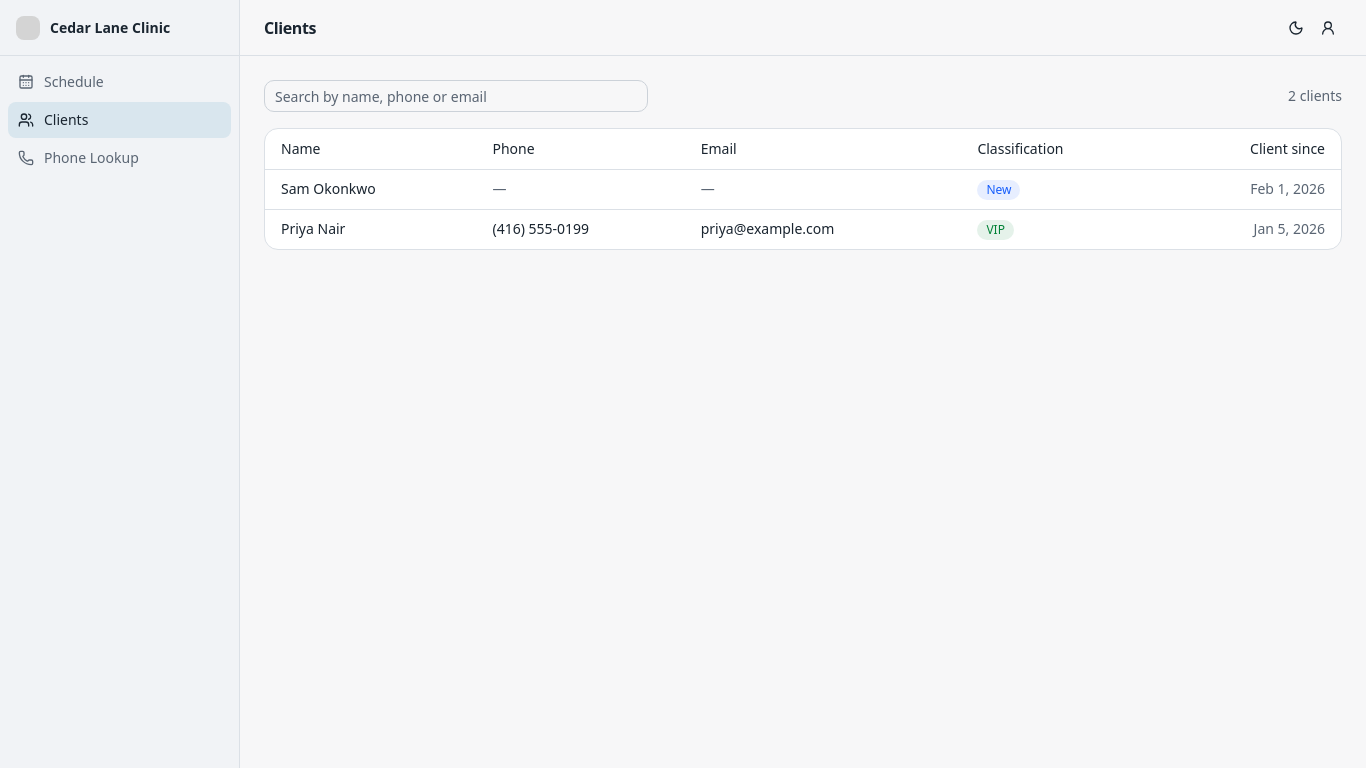
Test: no match is the standard empty state
Expected: the link "Sam Okonkwo" is shown, top-left (281, 179), bottom-right (376, 198)
Type "zzz" into the search field named "Search clients" at (456, 96), box top-left (264, 80), bottom-right (648, 112)
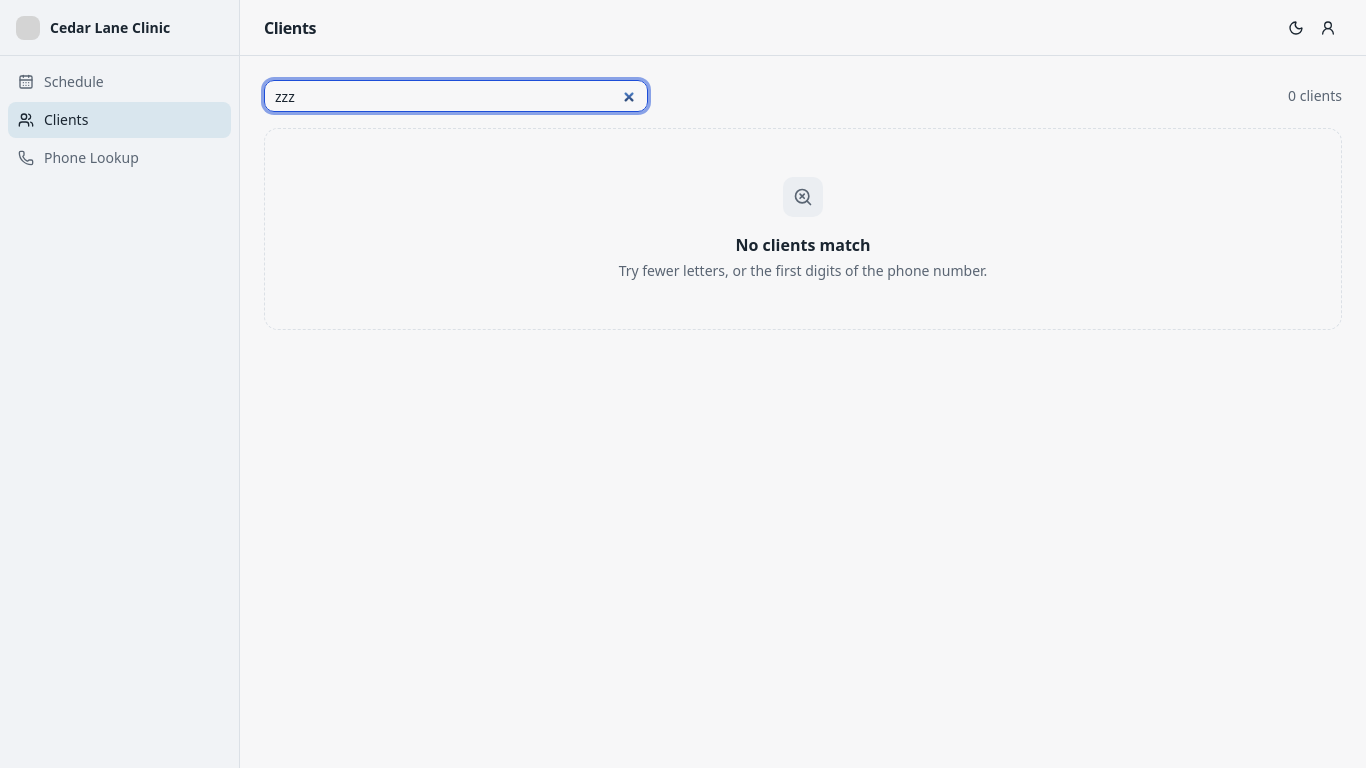
Expected: the heading "No clients match" is shown, top-left (735, 233), bottom-right (870, 257)
Expected: the table is gone
